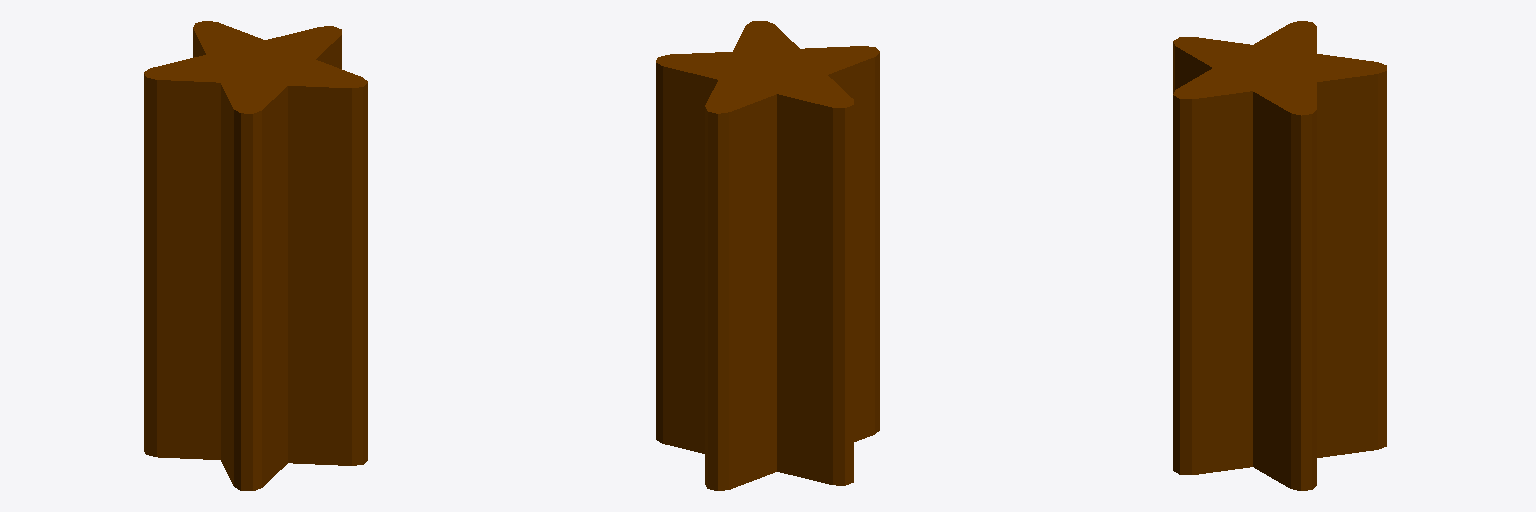
URDF robot description (Large_Short_Star_Brown):
<?xml version="1.0"?>
<robot name="Large_Short_Star_Brown">
    <link name="Large_Short_Star_Brown">
        <visual>
            <geometry>
                <mesh filename="../mesh/factory_insertion/Large_Short_Star_Brown.obj" scale="0.001 0.001 0.001"/>
            </geometry>
            <material name="Brown">
              <color rgba="0.46 0.25 0 0"/>
            </material>
        </visual>
        <collision>
            <geometry>
                <mesh filename="../mesh/factory_insertion/Large_Short_Star_Brown.obj" scale="0.001 0.001 0.001"/>
            </geometry>
            <sdf resolution="512"/>
        </collision>
    </link>
</robot>

--- What the picture shows (computed from the rendered views, not written in the file) ---
Views: 3 orthographic renders of the robot side by side, from view 1: azimuth 30°, elevation 25°; view 2: azimuth 150°, elevation 25°; view 3: azimuth 270°, elevation 25°.
Robot: Large_Short_Star_Brown — 1 links, 0 joints (none); root link Large_Short_Star_Brown; default pose: every joint at zero.
Visible links, largest first — view 1: Large_Short_Star_Brown; view 2: Large_Short_Star_Brown; view 3: Large_Short_Star_Brown.
Link boxes in pixels (x1,y1,x2,y2): Large_Short_Star_Brown: (144,21,367,490); Large_Short_Star_Brown: (656,21,879,490); Large_Short_Star_Brown: (1173,21,1386,490).
Size in the robot's own frame: 0.0543 by 0.0516 by 0.1 metres.
1 mesh visuals loaded from 1 distinct referenced files (1 OBJ).
